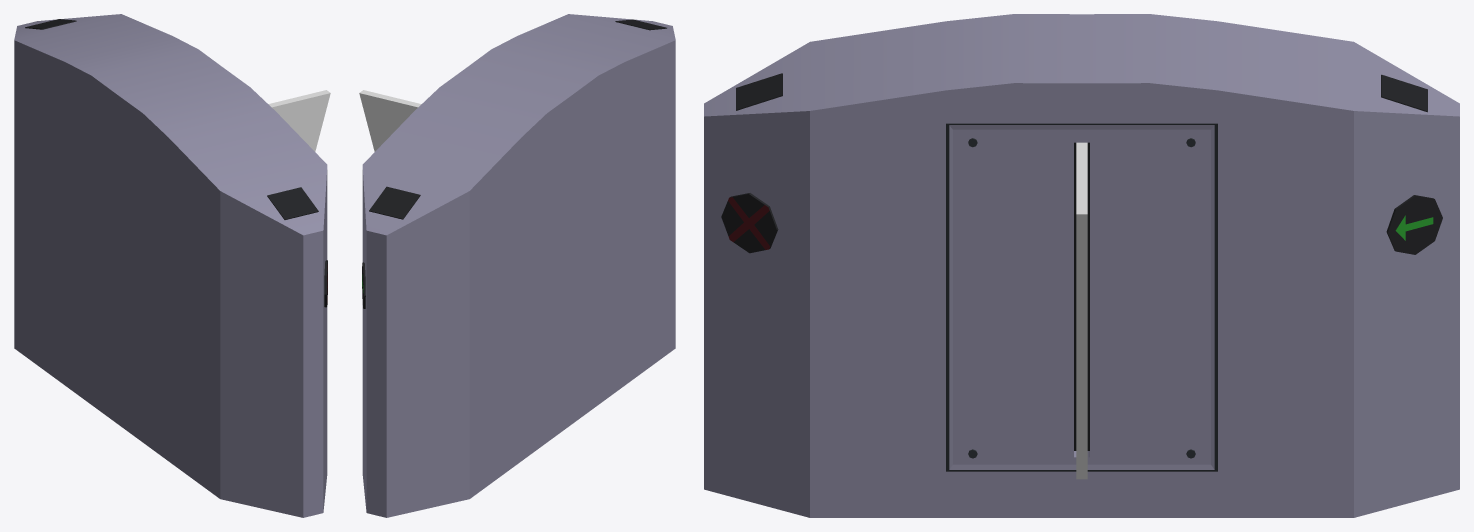
The model's file is SecurityGate-Single_01.fbx.
3 renders of one model, left to right at view 1: azimuth 30°, elevation 25°; view 2: azimuth 150°, elevation 25°; view 3: azimuth 270°, elevation 25°, orthographic. The views are drawn at different scales.
Parts seen in each view (by area): view 1: SecurityGate_Base_single, Security_Gate; view 2: SecurityGate_Base_single, Security_Gate; view 3: SecurityGate_Base_single, Security_Gate, SecurityGate_DirectionalLights.
Part boxes in pixels (x1,y1,x2,y2): SecurityGate_Base_single: (14, 14, 327, 517); Security_Gate: (268, 90, 330, 151); SecurityGate_Base_single: (362, 14, 675, 517); Security_Gate: (359, 90, 421, 151); SecurityGate_Base_single: (704, 14, 1459, 517); Security_Gate: (1076, 142, 1087, 479); SecurityGate_DirectionalLights: (721, 193, 1438, 252).
Size of the model in its own units: 0.6505 by 0.9679 by 1.52.
